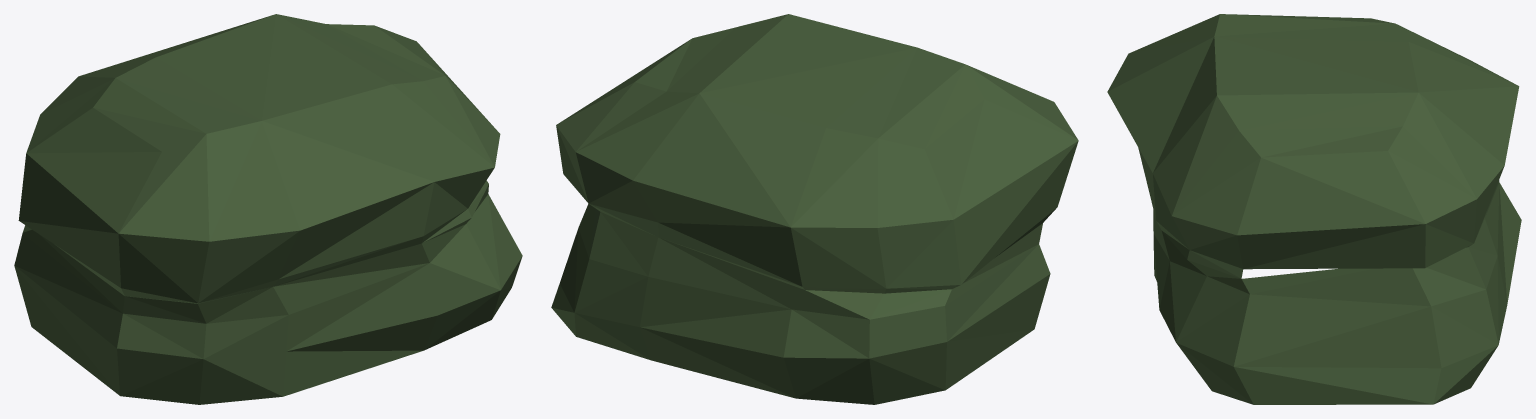
Rendered from crop_strawberry.s3.glb.
3 renders of one model, left to right at view 1: azimuth 30°, elevation 25°; view 2: azimuth 150°, elevation 25°; view 3: azimuth 270°, elevation 25°, orthographic. The views are drawn at different scales.
Size of the model in its own units: 0.7415 by 0.4327 by 0.6444.
